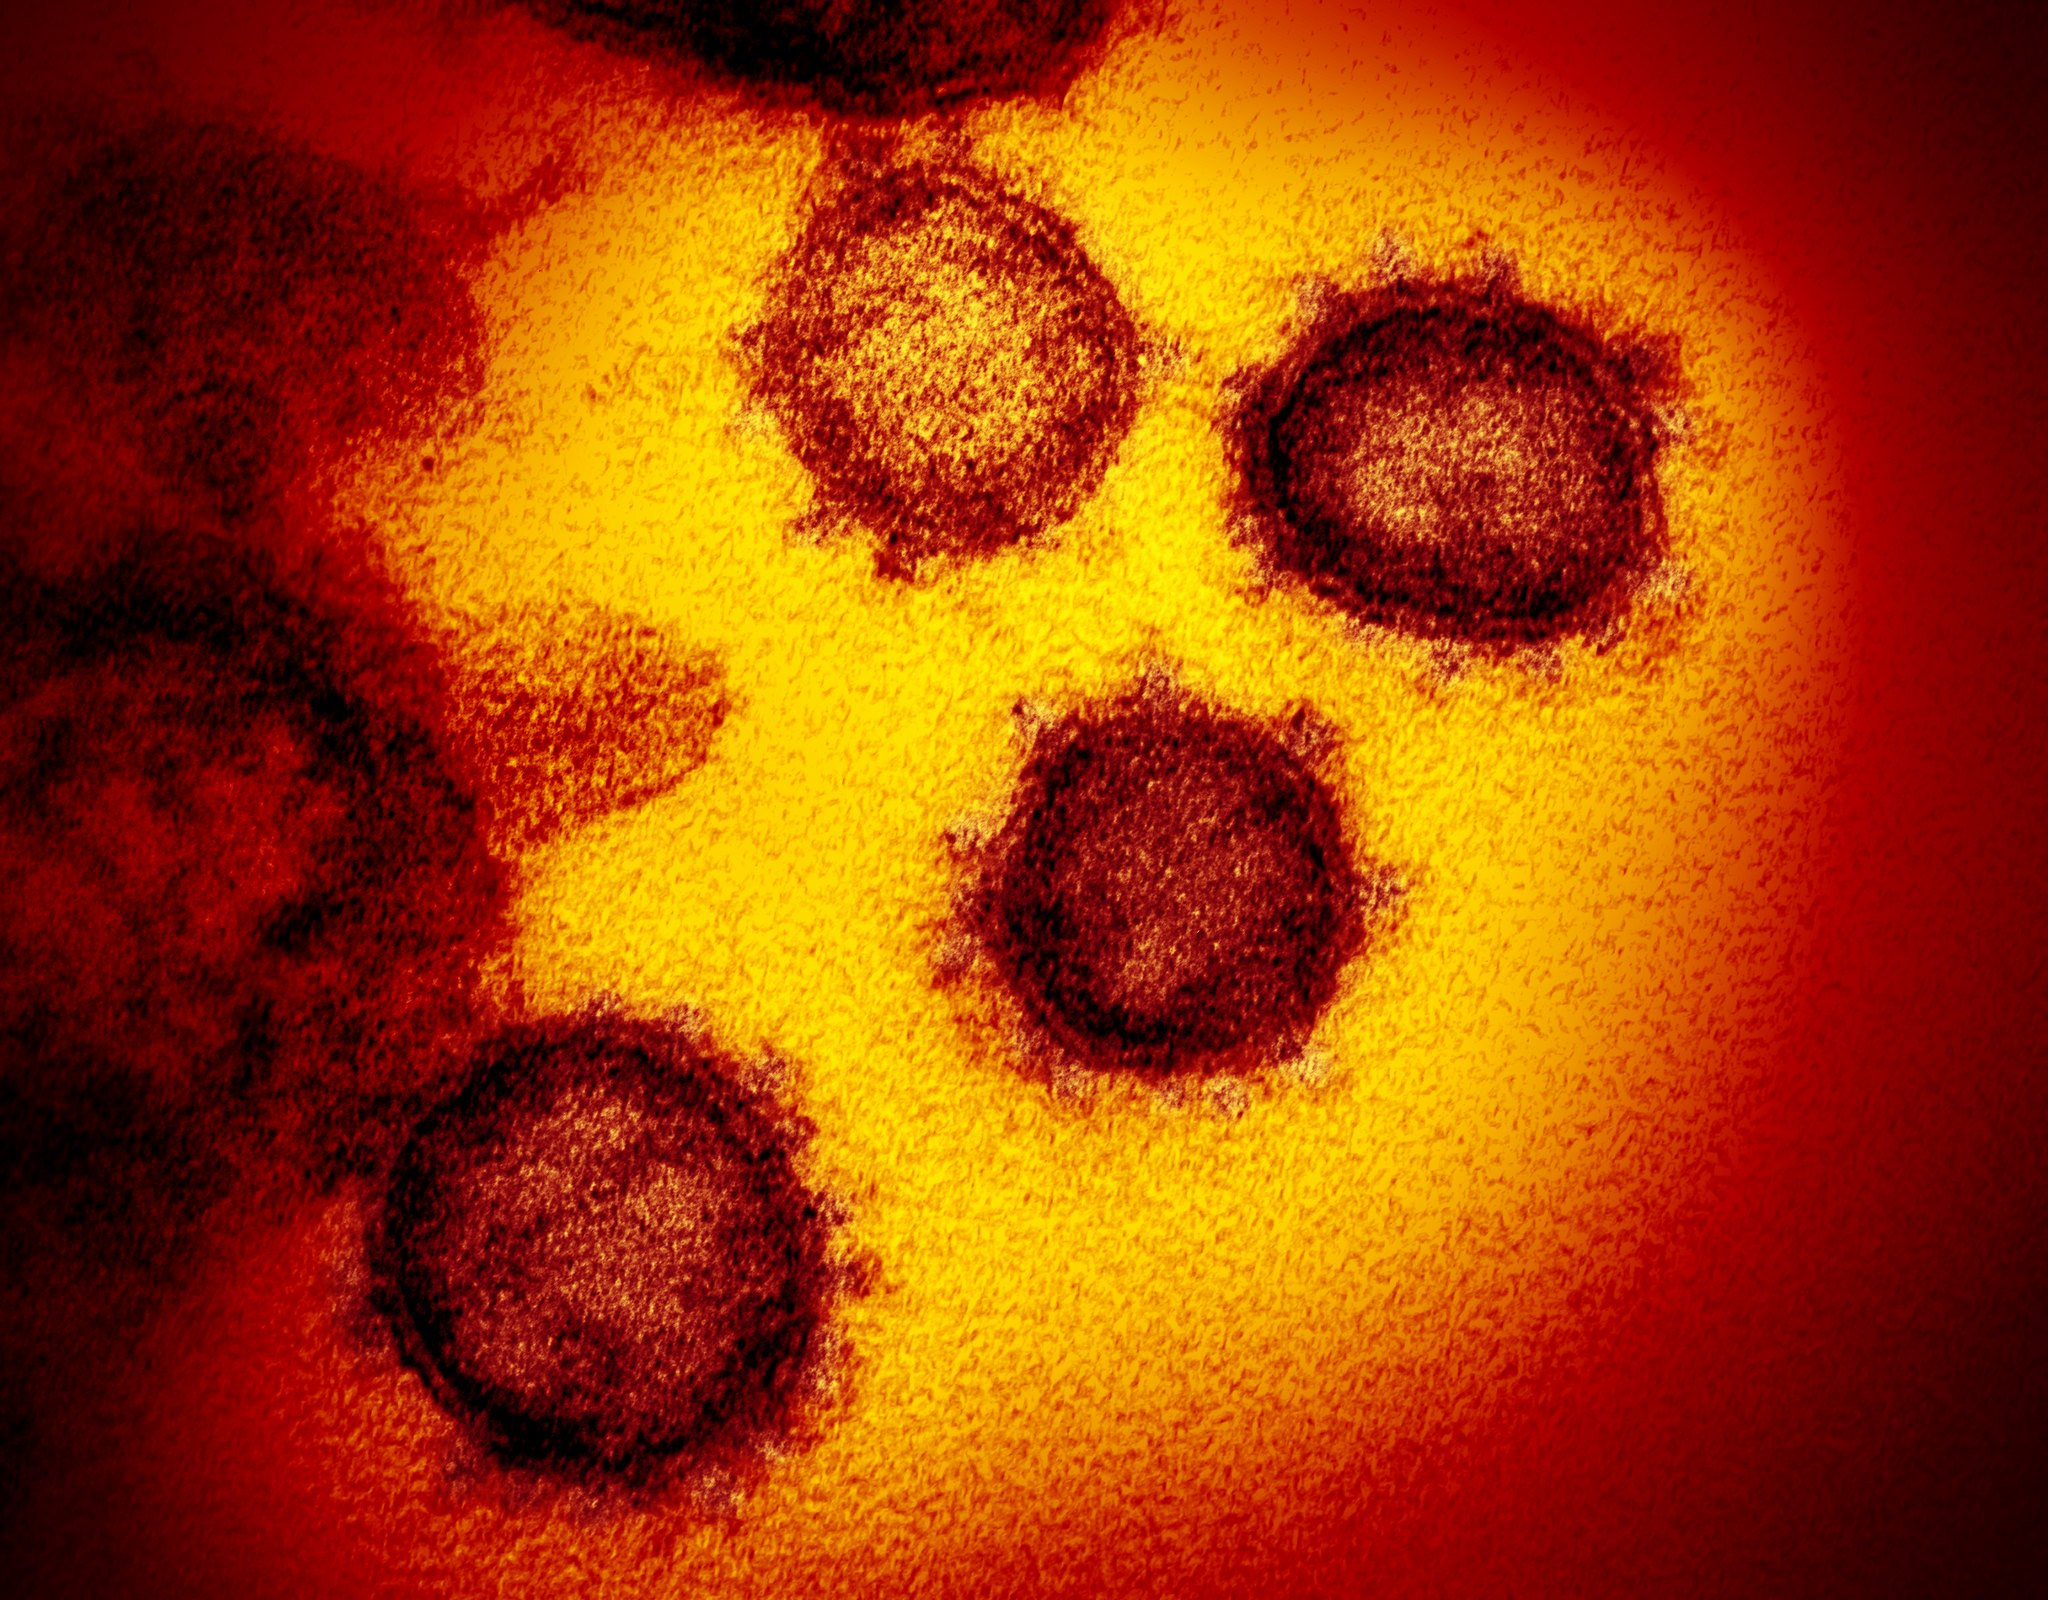COVID19: (346, 976, 929, 1495), (1237, 220, 1681, 723), (986, 640, 1410, 1106), (733, 146, 1164, 564)
